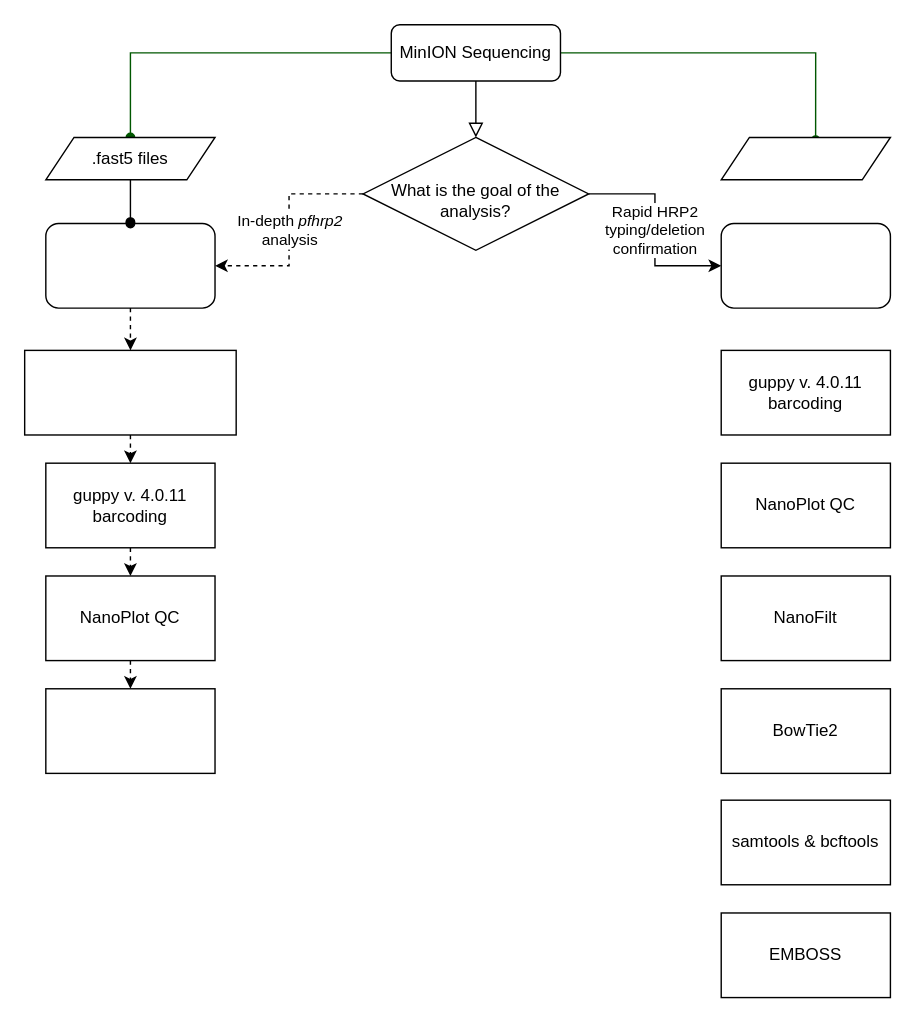
This 915x1022 diagram has some shape labels left out. Each missing label, with the centre of its shape:
.fastq files: point 805,158
Canu: point 129,730
guppy v. 4.0.11 basecalling with --calib_detect and --allow_inferior_barcodes: point 129,392
In-depth pipeline: point 129,265
Rapid pipeline: point 805,265
